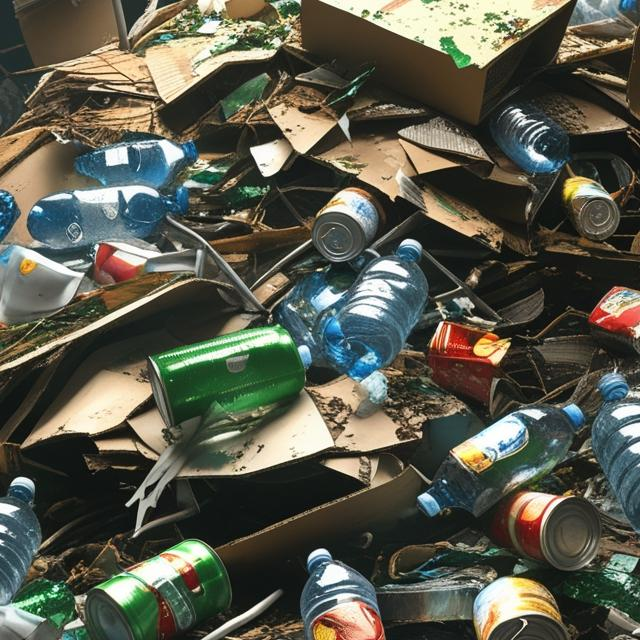metal: (455, 578, 573, 640)
plastic: (151, 318, 301, 420), (575, 358, 640, 544), (297, 548, 409, 640)
